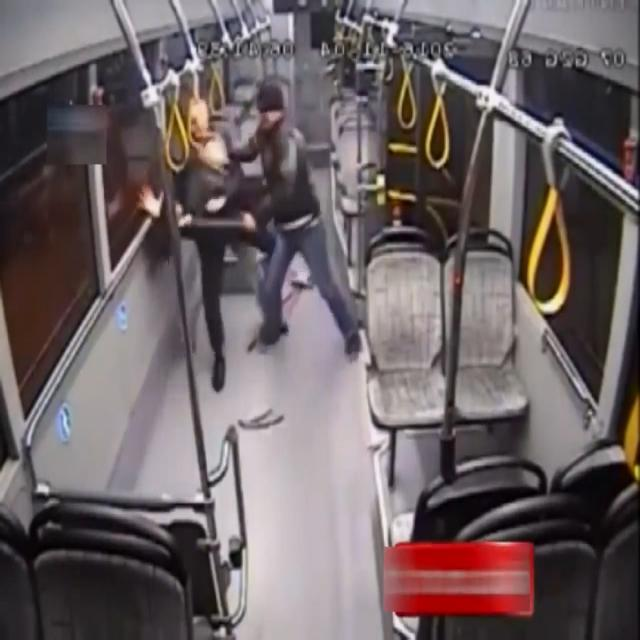fight: (140, 78, 338, 392)
